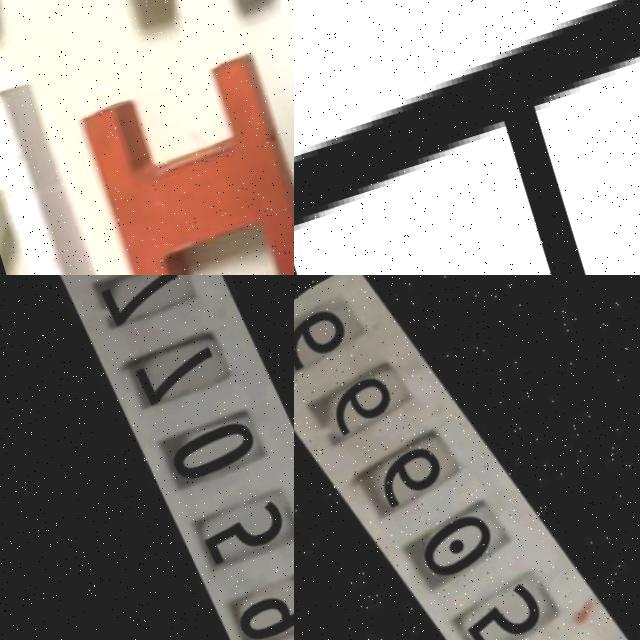0: (388, 484, 520, 600), (152, 399, 268, 495)
5: (437, 558, 565, 640), (186, 481, 294, 575)
6: (343, 419, 464, 525), (296, 348, 416, 452), (294, 278, 372, 387)
7: (122, 324, 228, 412), (88, 275, 192, 331)
9: (218, 559, 294, 640)
F: (294, 0, 640, 275)
I: (76, 52, 294, 275)
